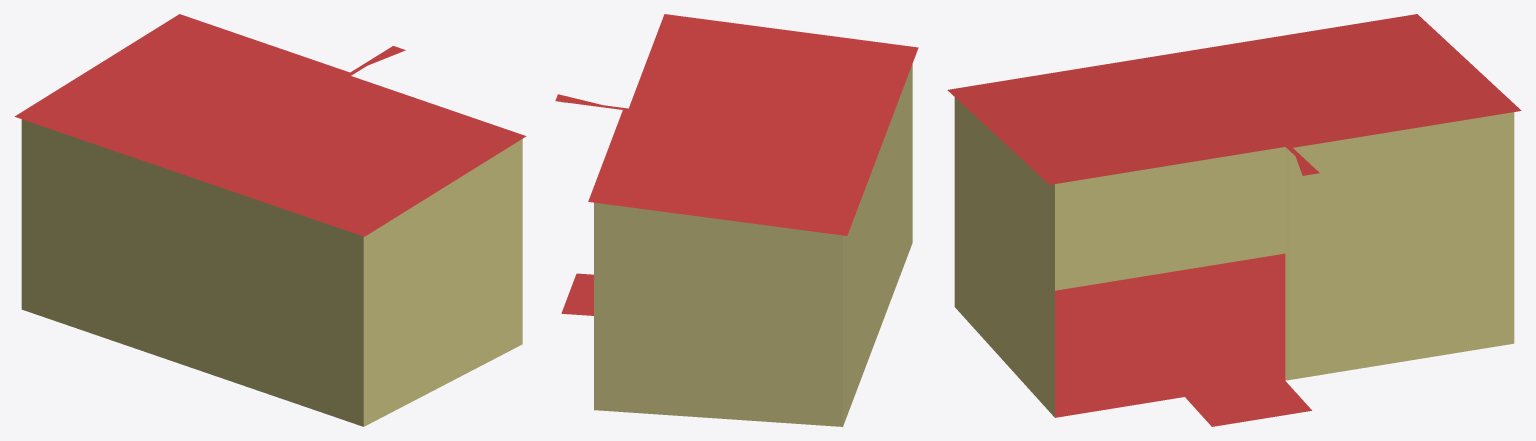
The picture shows the model from 3 angles, left to right: view 1: azimuth 30°, elevation 25°; view 2: azimuth 150°, elevation 25°; view 3: azimuth 270°, elevation 25°; orthographic projection. The views are drawn at different scales.
Size of the model in its own units: 19.98 by 24.59 by 11.29.
